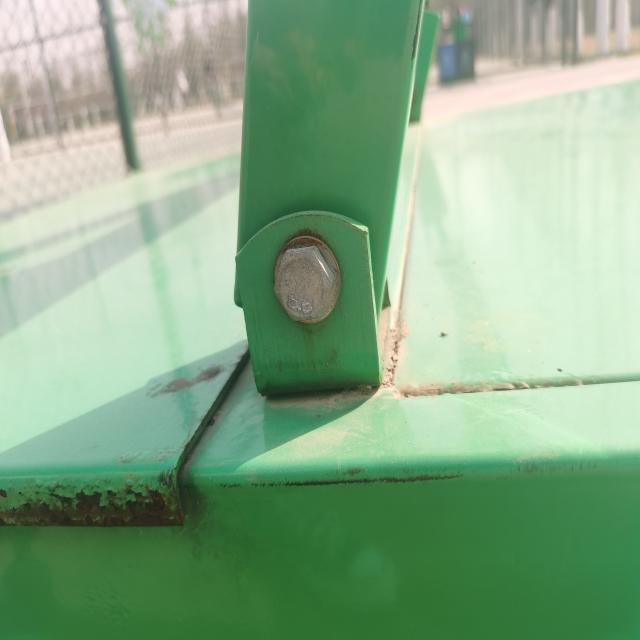bolt head: (272, 243, 336, 324)
